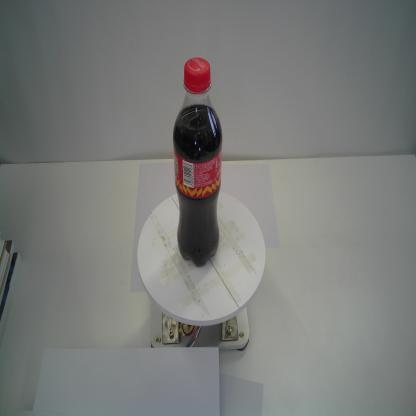Drink: (171, 54, 225, 270)
